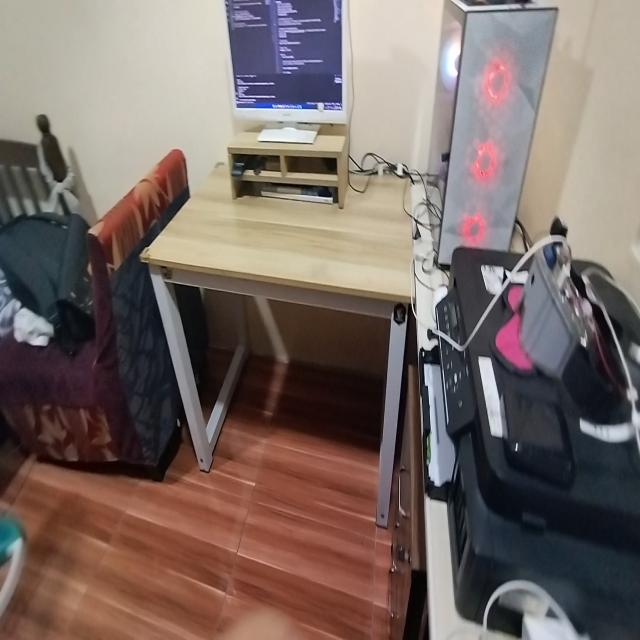table: (161, 156, 420, 533)
